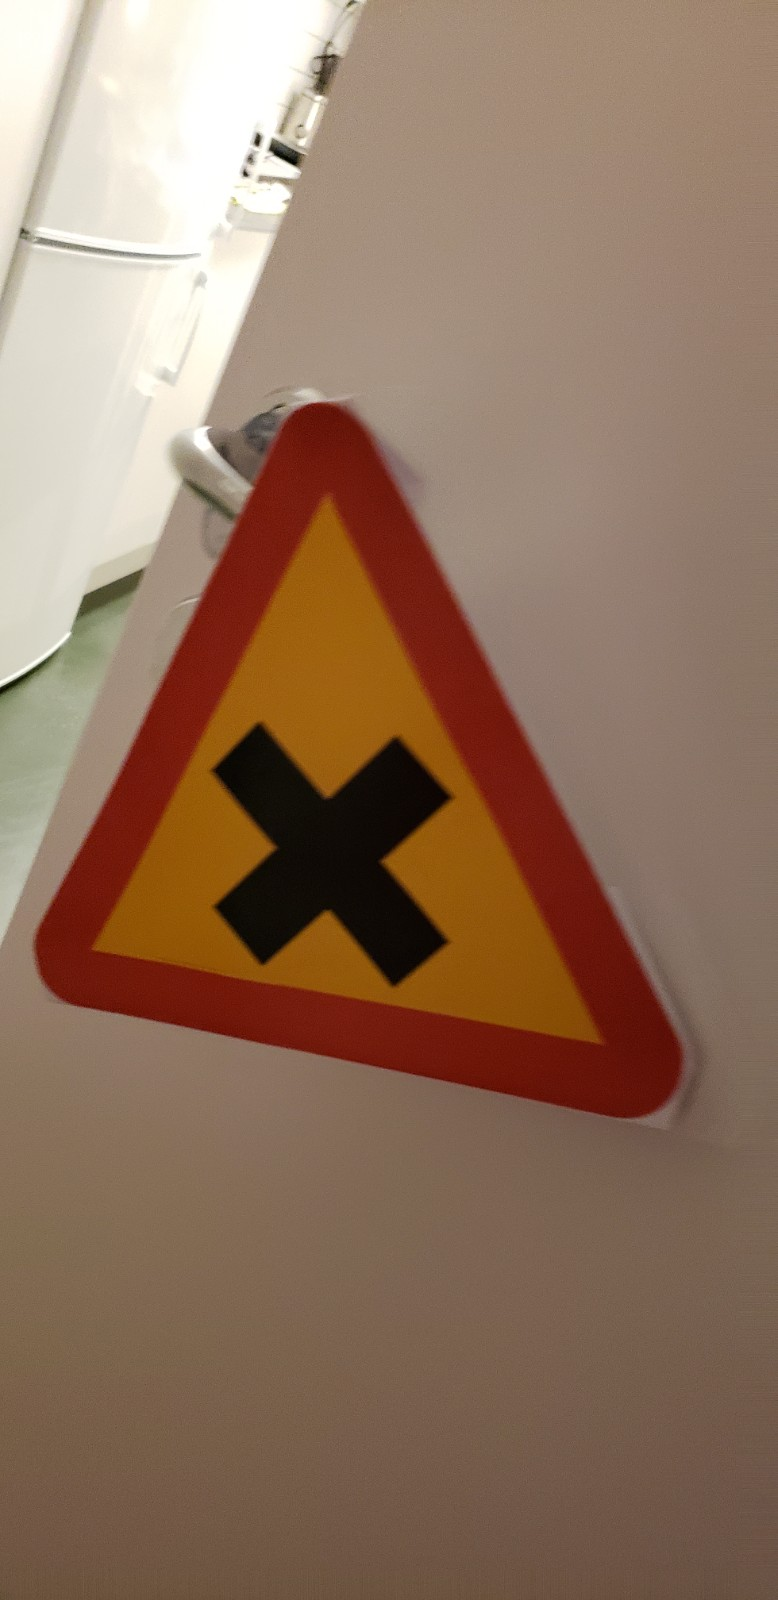junction: (32, 374, 694, 1138)
